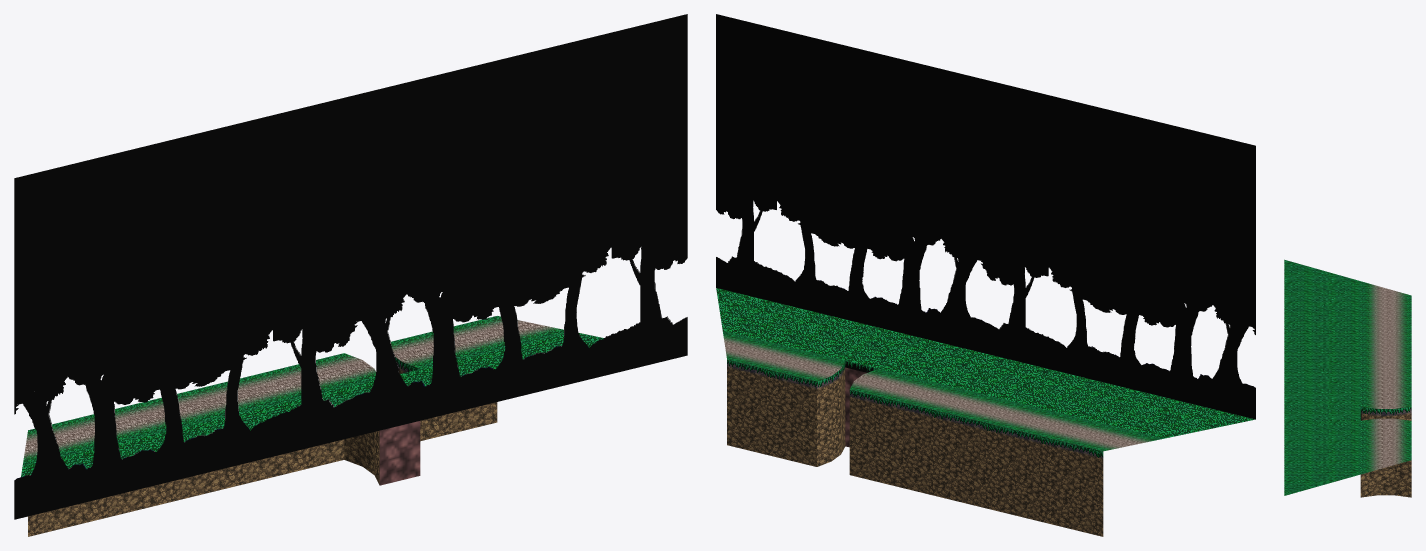
File: Area2_Room17.fbx
3 views of the same model, side by side, from view 1: azimuth 30°, elevation 25°; view 2: azimuth 150°, elevation 25°; view 3: azimuth 270°, elevation 25° (orthographic). The views are drawn at different scales.
Visible parts, largest first — view 1: pCube80; view 2: pCube80; view 3: pCube80.
Boxes of the visible parts, x1,y1,x2,y2 form: pCube80: [14, 14, 687, 536]; pCube80: [716, 14, 1255, 536]; pCube80: [1284, 259, 1411, 497].
Bounding box in the file's own units: 66 × 42 × 15.
